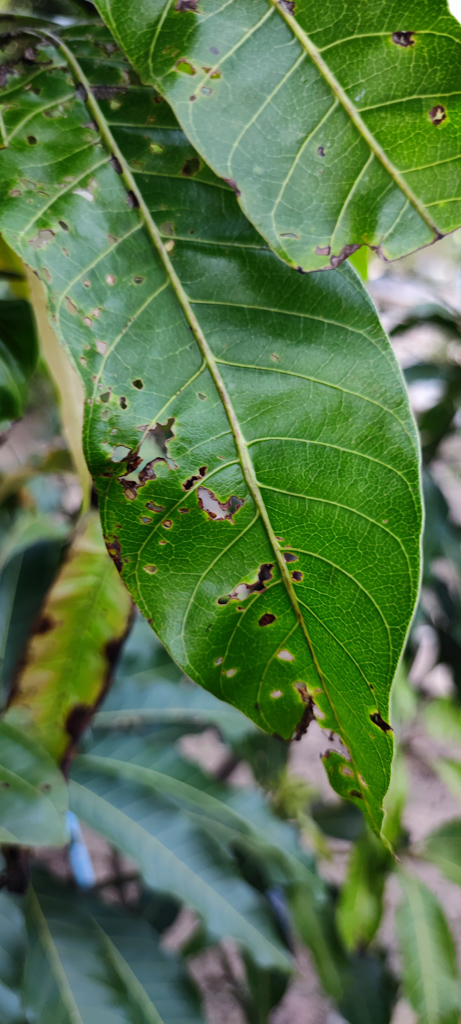frog-eye leafspot: (10, 89, 161, 378), (167, 35, 232, 97), (417, 86, 456, 135)
